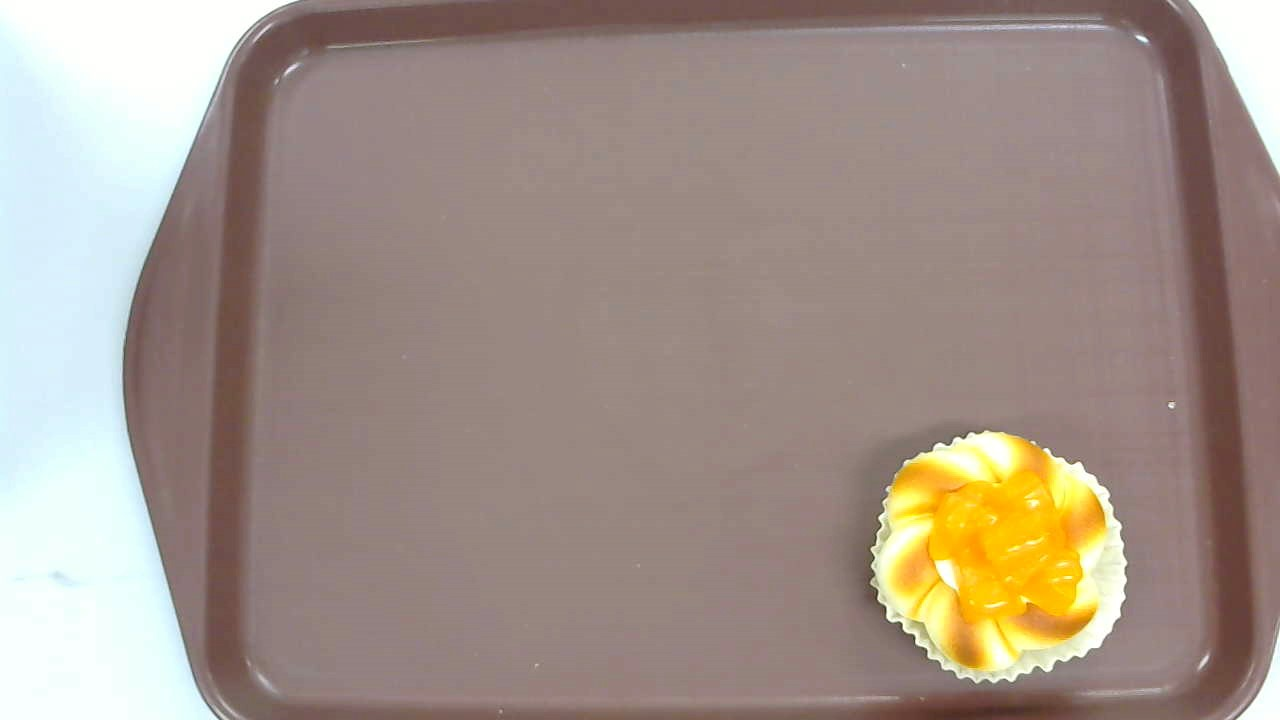mango tart: (869, 430, 1129, 684)
